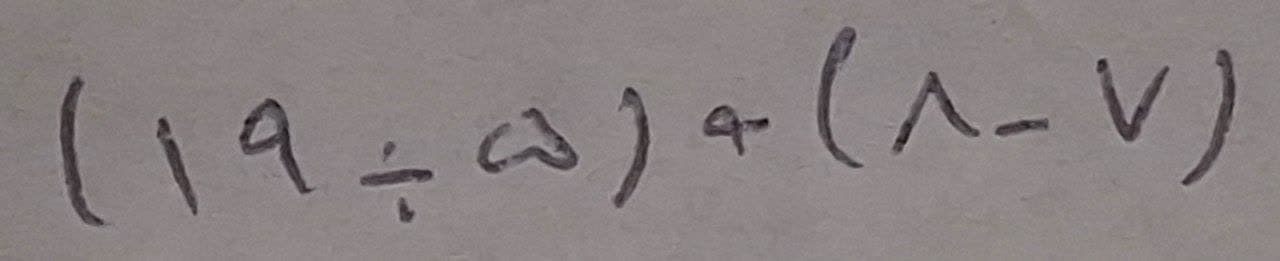character: (57, 72, 111, 228), (1179, 48, 1239, 183), (236, 96, 313, 199), (474, 101, 580, 175), (891, 70, 980, 157), (816, 25, 869, 167), (355, 140, 439, 226), (1096, 58, 1170, 145), (609, 86, 649, 212), (698, 98, 775, 161), (155, 114, 198, 215), (996, 113, 1052, 142)
